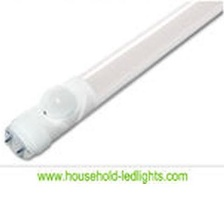light_bulb: (2, 0, 224, 162)
